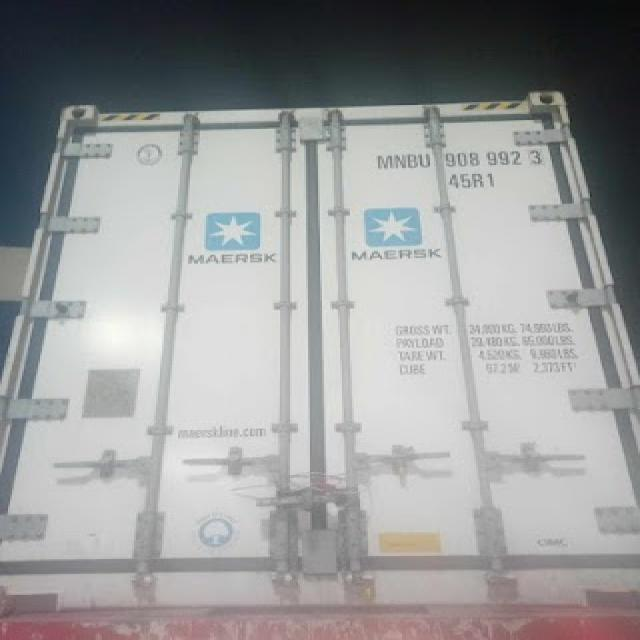ISO: (452, 172, 498, 192)
container_number: (379, 148, 552, 168)
